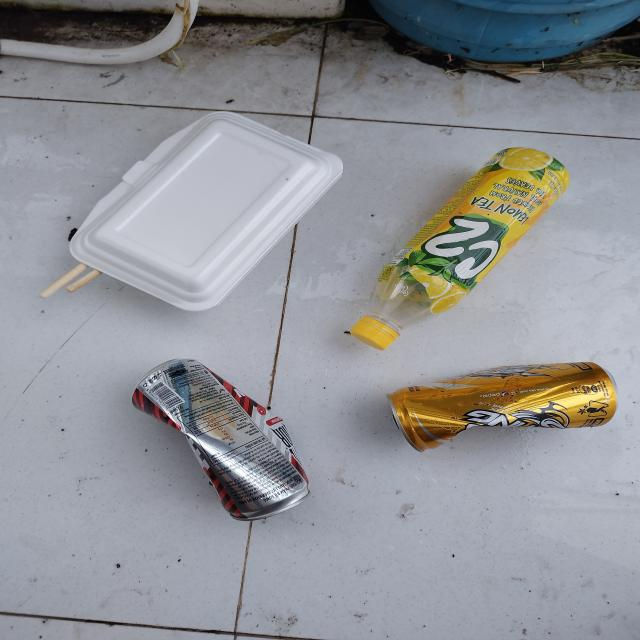bottle: (348, 147, 570, 351)
can: (130, 357, 312, 523), (387, 362, 622, 454)
foam box: (67, 110, 345, 314)
